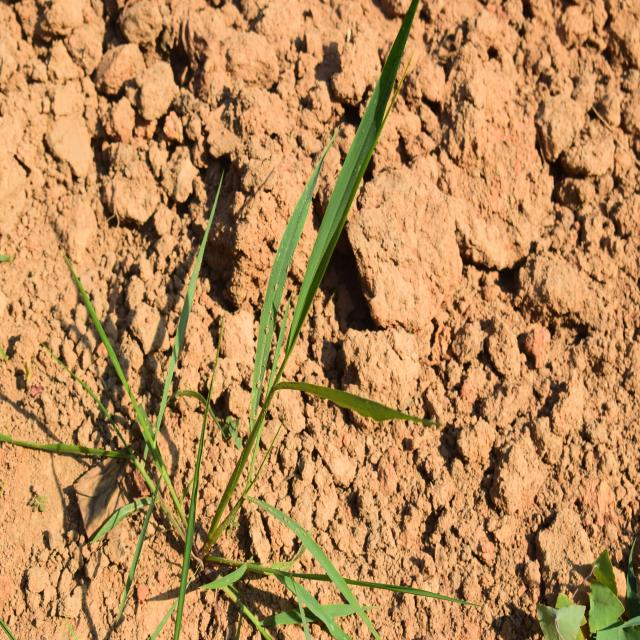green_foxtail: (235, 63, 392, 566)
